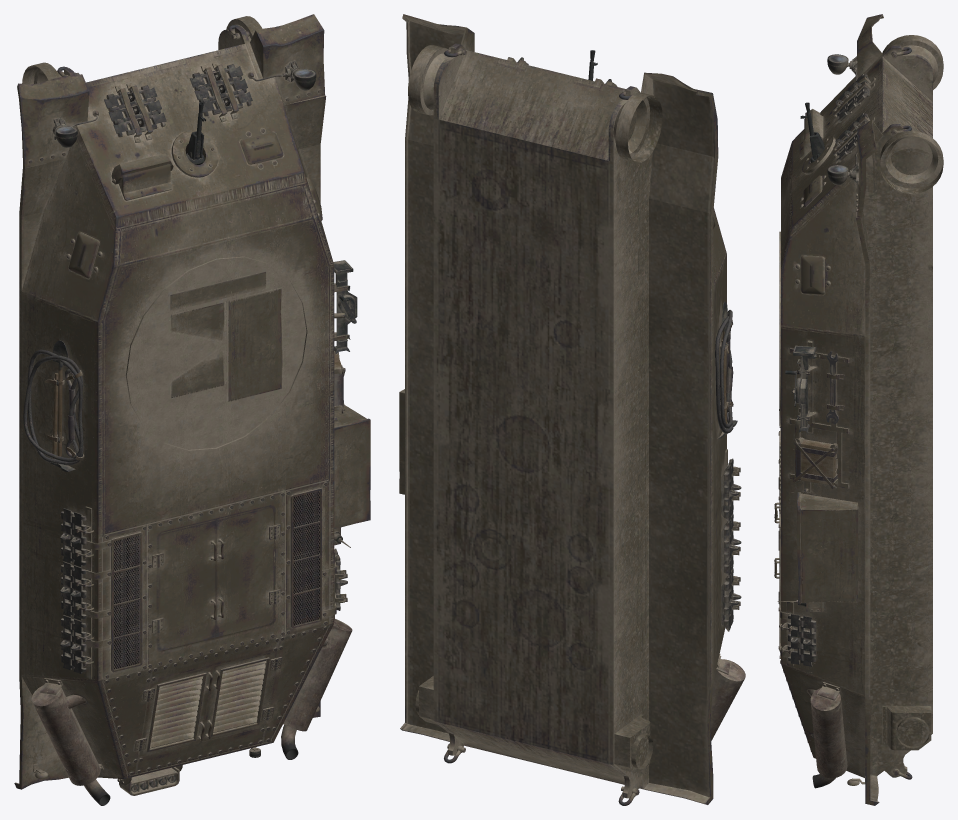
File: Hull.glb
The picture shows the model from 3 angles, left to right: view 1: azimuth 30°, elevation 25°; view 2: azimuth 150°, elevation 25°; view 3: azimuth 270°, elevation 25°; orthographic projection. The views are drawn at different scales.
Parts seen in each view (by area): view 1: set_0_group_0; view 2: set_0_group_0; view 3: set_0_group_0.
Part boxes in pixels (x1=…): set_0_group_0: x1=14, y1=14, x2=370, y2=805; set_0_group_0: x1=399, y1=14, x2=745, y2=805; set_0_group_0: x1=774, y1=14, x2=943, y2=805.
Bounding box in the file's own units: 2.96 × 6.26 × 1.43.
Materials: 1 (1 with a texture image).
